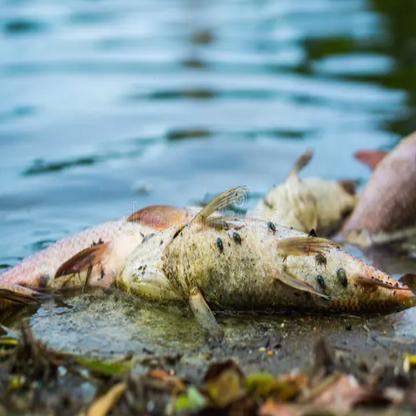deceased fish: (112, 187, 415, 333)
